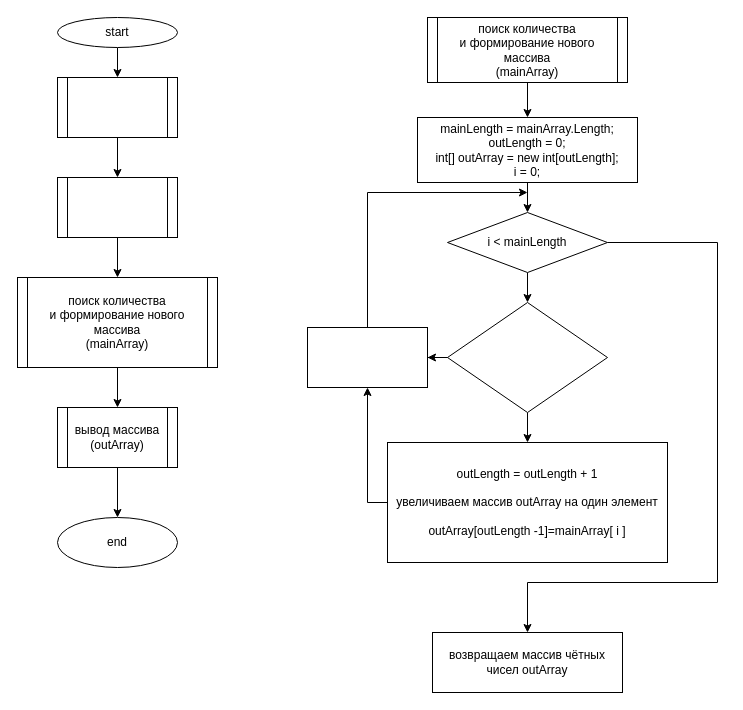
This 743x710 diagram has some shape labels left out. The shapes that lost their labels are listed below. From the top down, each one's centre as x and y in pixels, then its label:
At pixel 117 107: "генерация массива (mainArray)".
At pixel 117 207: "вывод массива (mainArray)".
At pixel 367 357: "i = i +1".
At pixel 527 357: "mainArray[ i ] - нечётный".
